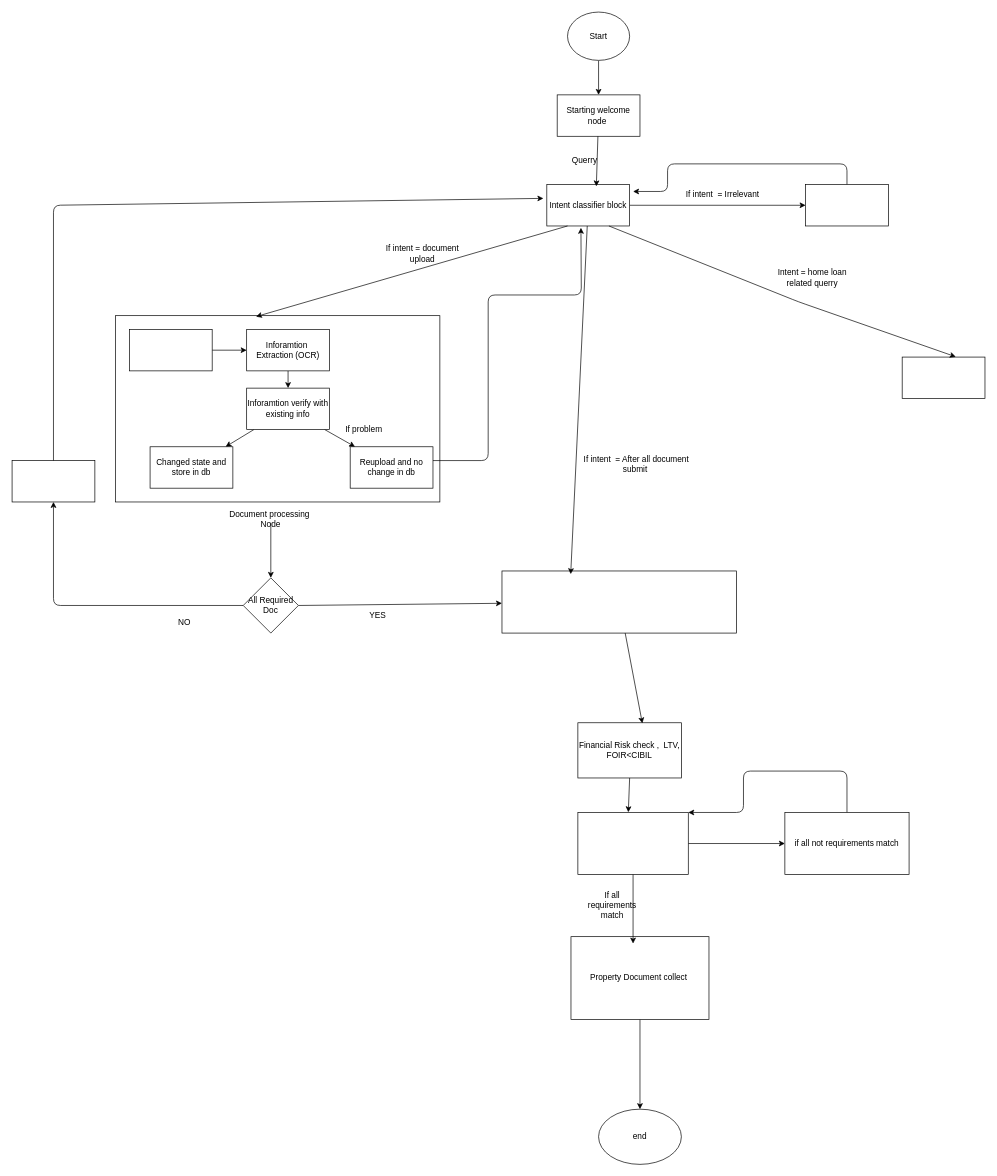
Image size: 997x1176. Some labels were removed from this diagram. Each missing label, with the box of its shape:
Document classification: (129, 329, 212, 371)
Flow over and Ask user for required leftover doc: (11, 460, 95, 502)
home laon related querry solver using LLM: (901, 356, 985, 398)
Msg wrong : HITL - querry->intent classifier block: (805, 184, 888, 226)
Negotations block: (577, 812, 688, 875)
Take loan amnt , down payment , suggested Tenure period: (501, 570, 737, 633)
